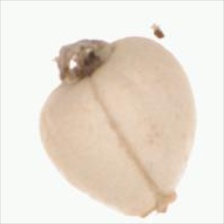L3: (136, 188, 179, 218)
L4: (38, 37, 195, 220)
